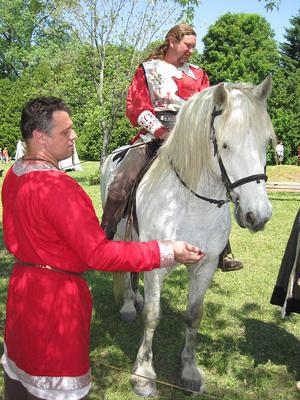person: (3, 96, 204, 400)
